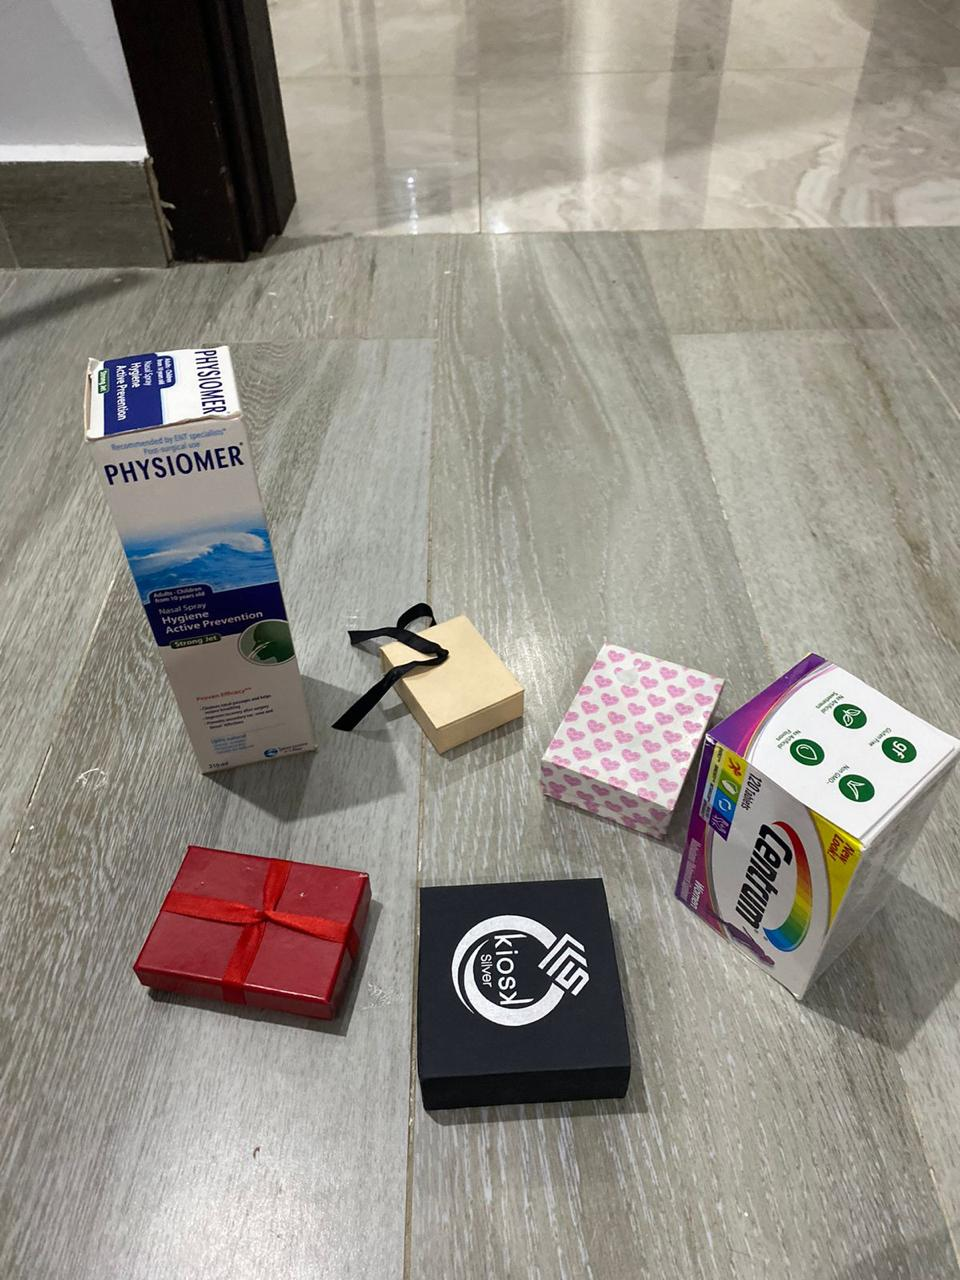Black Box: (127, 834, 384, 1052)
Centrum: (680, 633, 960, 1004)
Physiomer: (82, 337, 321, 785)
Pink Box: (542, 635, 720, 859)
Red Box: (410, 870, 636, 1115)
Yellow Box: (375, 612, 528, 761)
